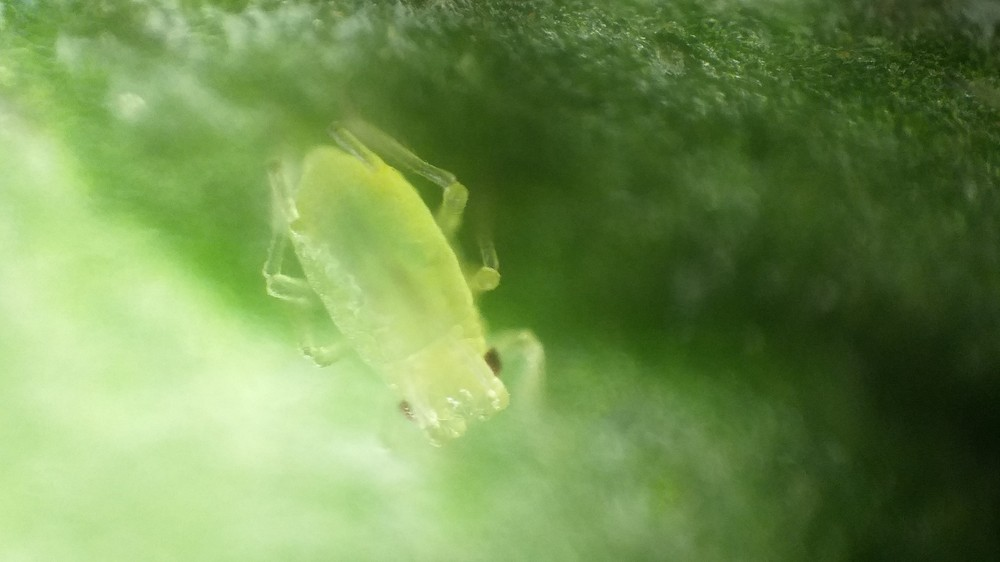Pulgon: (213, 101, 596, 486)
